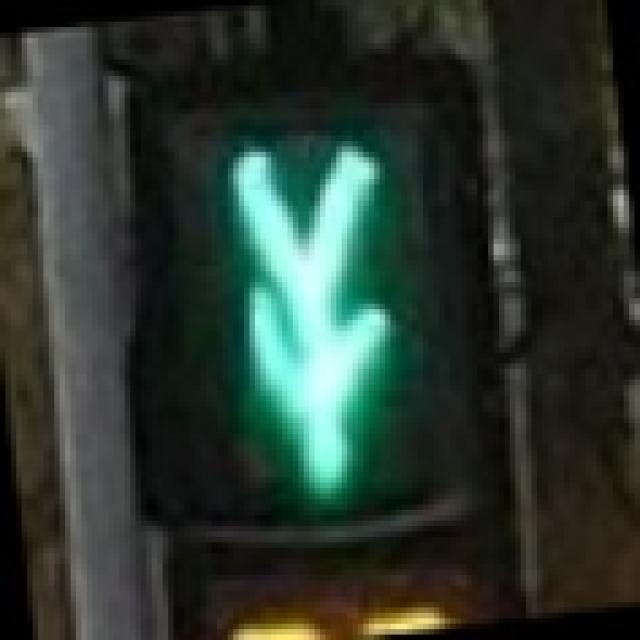geen-crossing: (174, 87, 450, 537)
